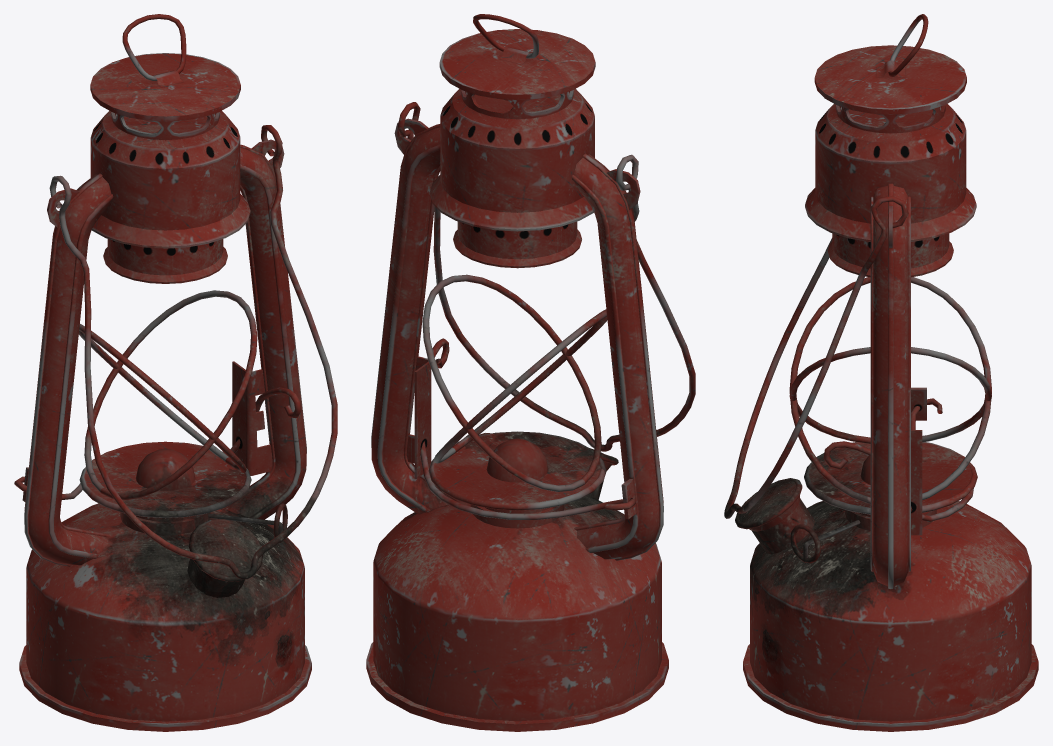
The model's file is oilLamp.obj.
3 views of the same model, side by side, from view 1: azimuth 30°, elevation 25°; view 2: azimuth 150°, elevation 25°; view 3: azimuth 270°, elevation 25° (orthographic). The views are drawn at different scales.
Parts seen in each view (by area): view 1: lamp_lamp_mat_0; view 2: lamp_lamp_mat_0; view 3: lamp_lamp_mat_0.
Part boxes in pixels (bbox=[...]): lamp_lamp_mat_0: bbox=[14, 14, 337, 731]; lamp_lamp_mat_0: bbox=[366, 14, 695, 731]; lamp_lamp_mat_0: bbox=[724, 14, 1038, 731].
Size of the model in its own units: 0.0351 by 0.0767 by 0.0337.
1 material, 1 textured.
